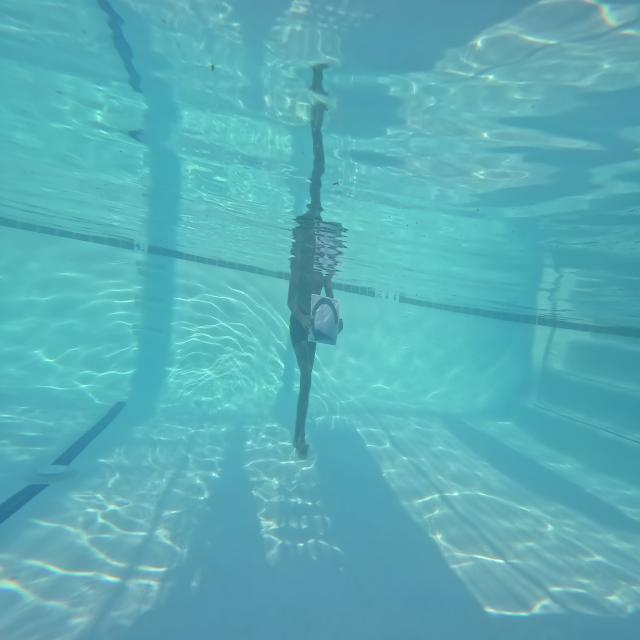blue_side: (308, 294, 339, 345)
